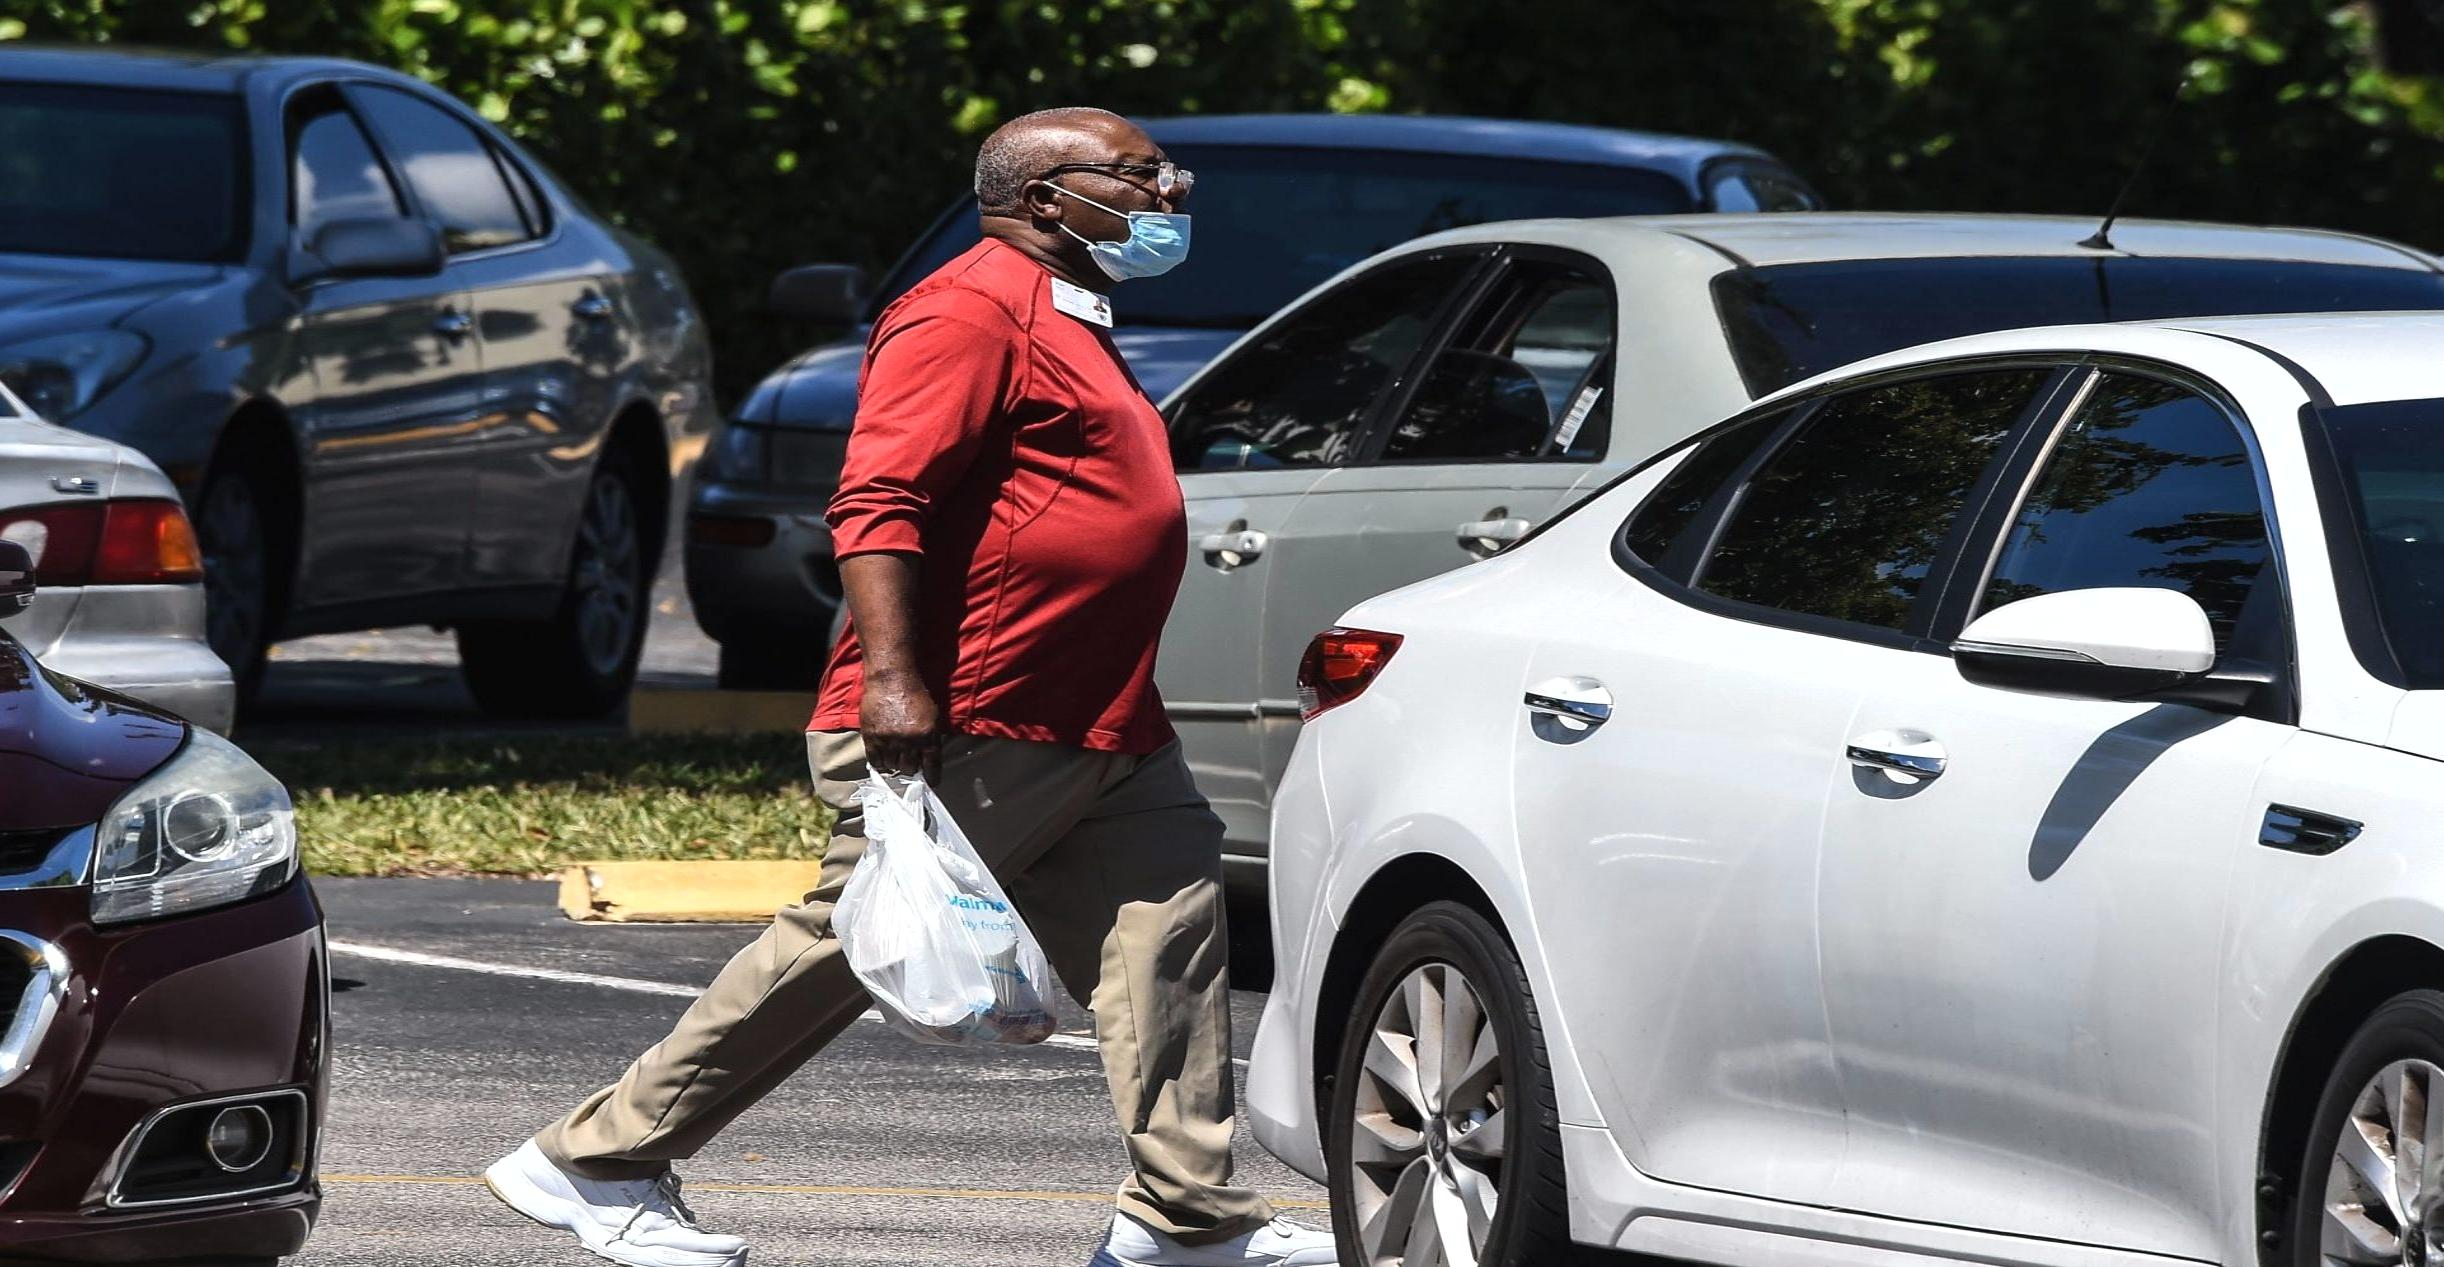mask_weared_incorrect: (1002, 98, 1238, 318), (958, 106, 1205, 295)
